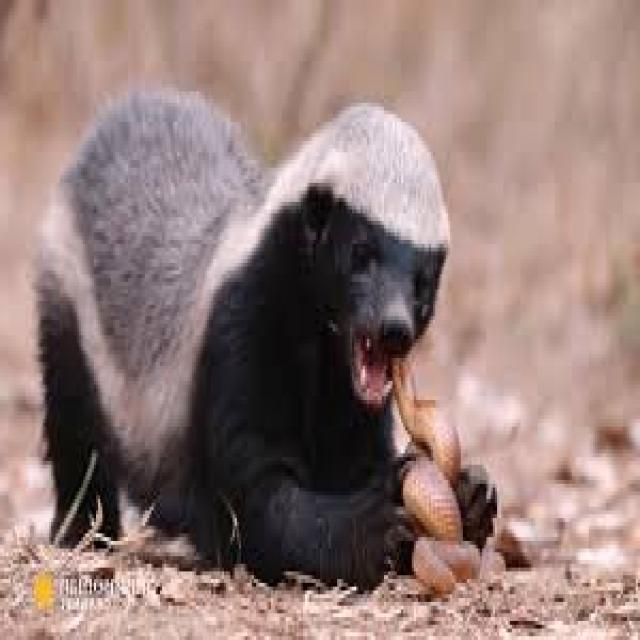badger: (36, 88, 450, 587), (461, 469, 497, 541)
